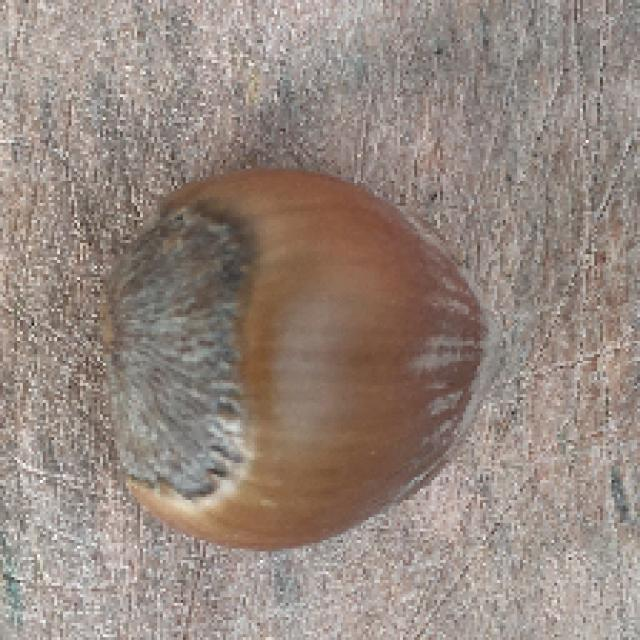damagedHazelnut: (94, 165, 522, 559)
